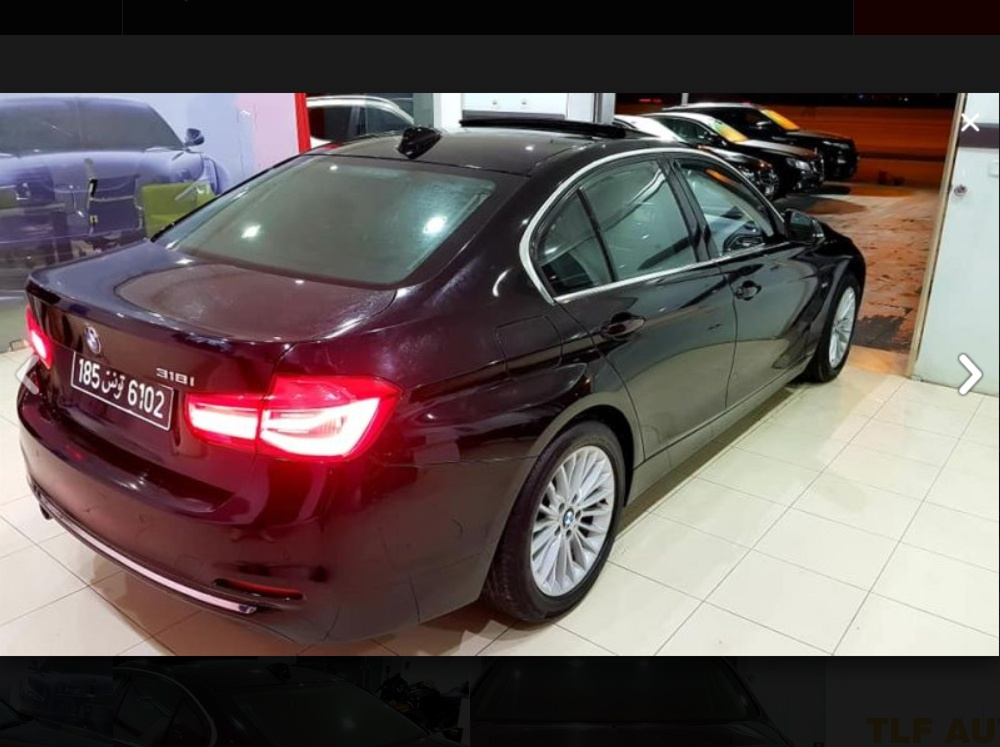LP: (66, 349, 178, 430)
